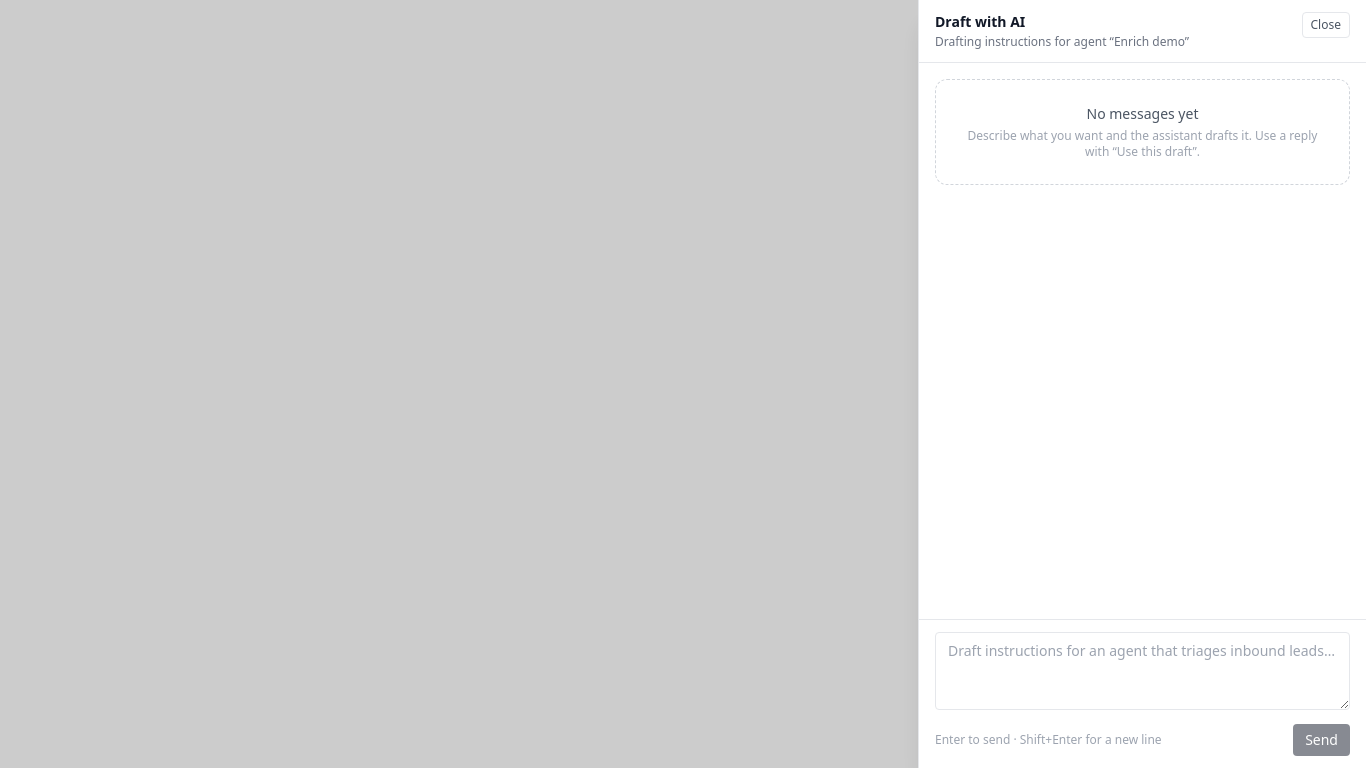
Scenario: AssistantDrawer › rounds a turn trip, appends the reply, and seeds context on the first turn only
Step 1. Type "Triage inbound leads" into the text box named "Message" → (1142,671), box [935, 632, 1350, 710]
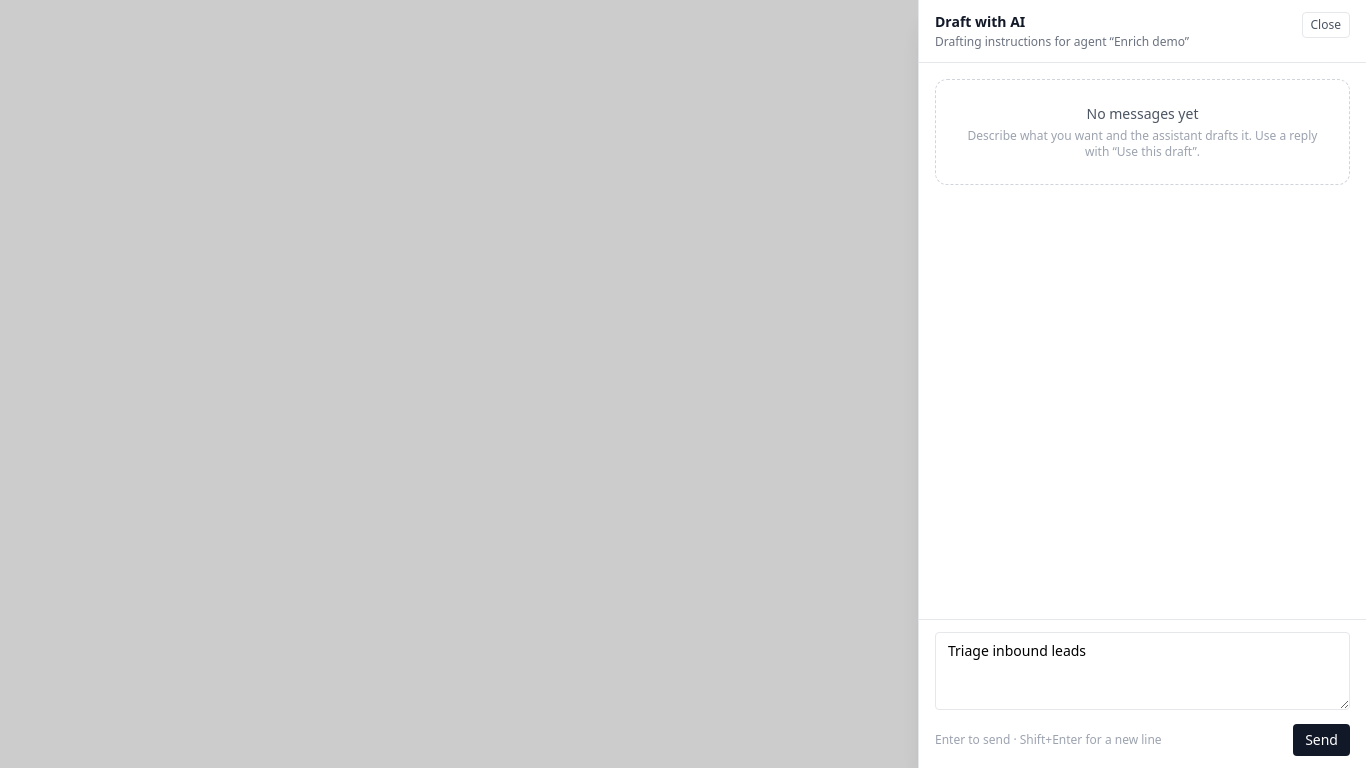
Step 2. Click the button "Send" → (1322,740), box [1293, 724, 1350, 756]
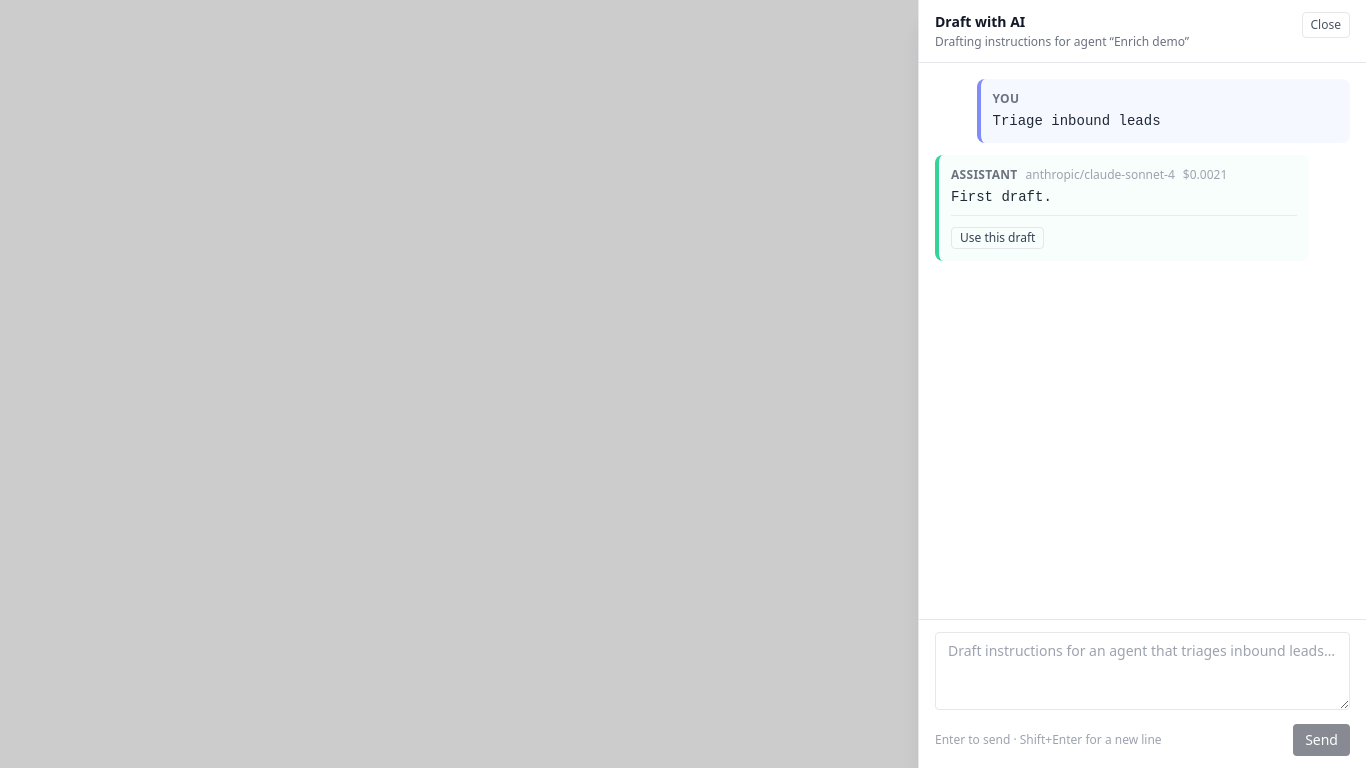
Check: the text "First draft." is shown, box [951, 189, 1052, 205]
Check: the text "Triage inbound leads" is shown, box [992, 113, 1160, 129]
Check: the text "anthropic/claude-sonnet-4" is shown, box [1026, 167, 1175, 183]
Step 3. Type "Make it shorter" into the text box named "Message" → (1142,671), box [935, 632, 1350, 710]
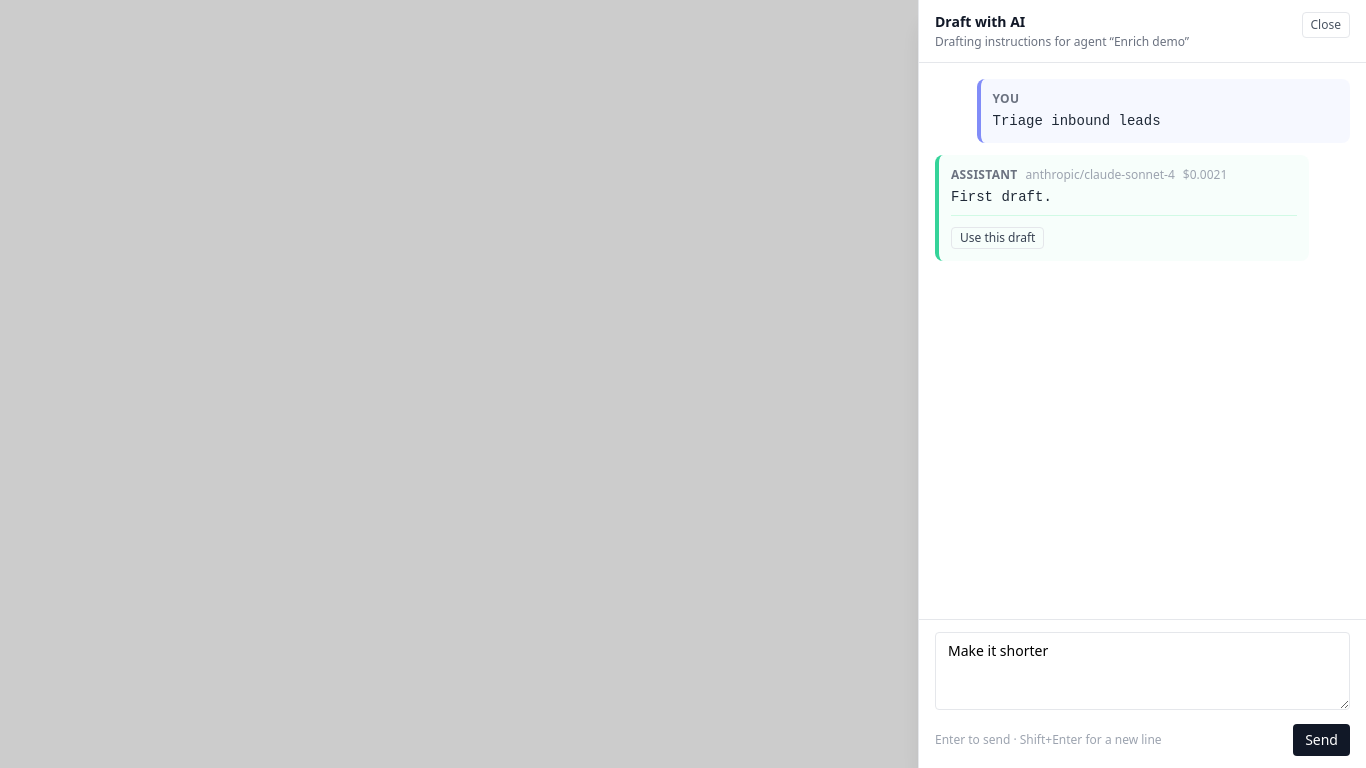
Step 4. Click the button "Send" → (1322,740), box [1293, 724, 1350, 756]
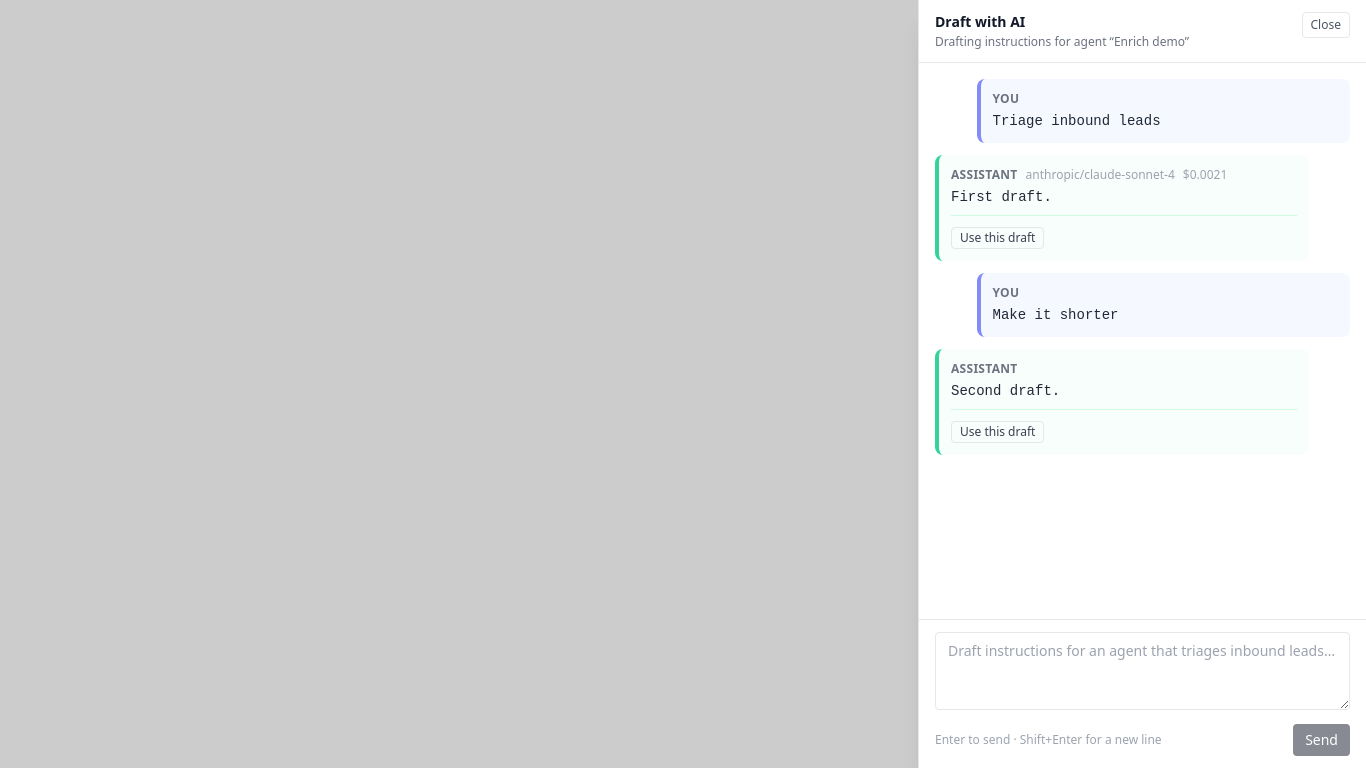
Check: the text "Second draft." is shown, box [951, 383, 1060, 399]
